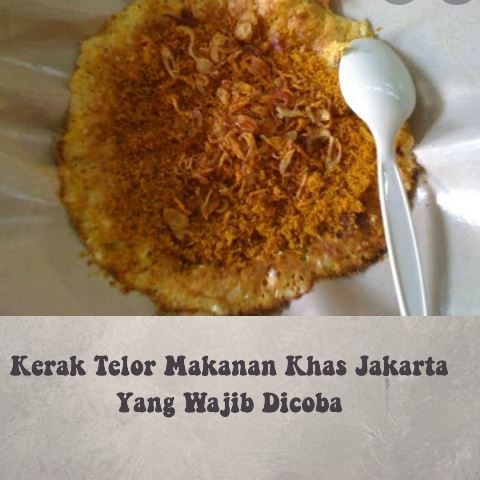kerak_telor: (46, 3, 425, 314)
